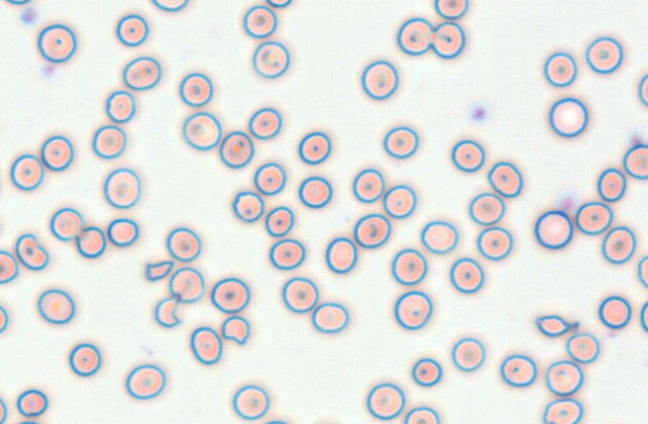PLT: (556, 191, 581, 209), (38, 62, 57, 82), (471, 103, 489, 122), (20, 6, 38, 24), (629, 128, 645, 147)
RBC: (36, 23, 77, 63), (548, 96, 588, 137), (181, 111, 222, 150), (103, 167, 141, 209), (534, 209, 573, 249), (393, 290, 432, 330), (360, 59, 398, 100), (365, 382, 405, 420), (585, 35, 623, 74), (251, 40, 290, 78), (210, 276, 250, 313), (125, 363, 165, 399), (396, 17, 433, 55), (545, 359, 583, 396), (36, 288, 75, 324), (390, 248, 427, 285), (281, 276, 318, 313), (353, 212, 391, 248), (601, 225, 636, 264), (122, 55, 161, 90), (168, 266, 204, 303), (232, 384, 269, 420), (487, 160, 523, 197), (575, 200, 613, 235), (420, 219, 458, 254), (219, 130, 254, 168), (165, 226, 201, 262), (430, 21, 465, 58), (449, 256, 484, 293), (9, 153, 44, 190), (499, 353, 537, 387), (476, 225, 512, 260), (468, 191, 505, 225), (189, 326, 222, 364), (91, 124, 126, 159), (178, 72, 213, 107), (382, 125, 418, 159), (543, 51, 577, 87), (40, 134, 73, 171), (311, 301, 349, 333), (325, 236, 357, 274), (49, 206, 83, 241), (451, 337, 485, 372), (450, 138, 485, 172), (242, 4, 277, 38), (351, 167, 384, 203), (268, 238, 305, 270), (382, 184, 416, 218), (297, 130, 331, 164), (297, 175, 332, 208), (253, 161, 286, 195), (68, 342, 101, 376), (598, 295, 631, 329), (115, 13, 148, 47), (248, 106, 281, 139), (104, 89, 136, 123), (565, 332, 600, 363), (542, 397, 583, 423), (231, 190, 264, 222), (596, 167, 626, 202), (75, 225, 106, 258), (106, 217, 139, 247), (264, 205, 294, 237), (622, 143, 648, 179), (16, 388, 48, 417), (411, 357, 442, 386), (433, 0, 468, 19), (403, 405, 439, 423), (0, 249, 18, 283), (150, 0, 188, 12), (637, 72, 648, 106), (637, 254, 648, 288), (639, 300, 648, 332), (310, 416, 341, 424), (0, 304, 8, 333), (0, 396, 7, 423), (265, 0, 292, 7), (3, 0, 32, 5), (263, 419, 290, 424), (16, 419, 42, 424), (0, 165, 3, 198), (0, 212, 3, 238)
Schistocyte: (15, 233, 50, 271), (532, 313, 580, 337), (223, 314, 251, 345), (156, 294, 181, 328), (143, 261, 174, 281)
